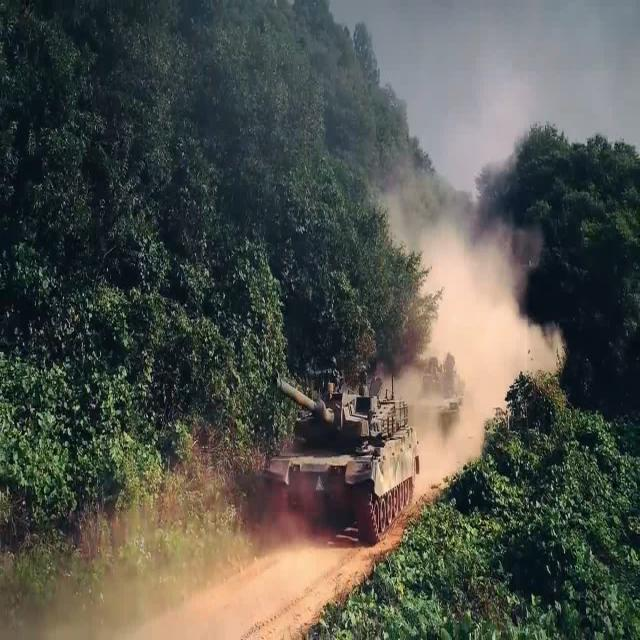korea tank: (266, 374, 421, 547)
